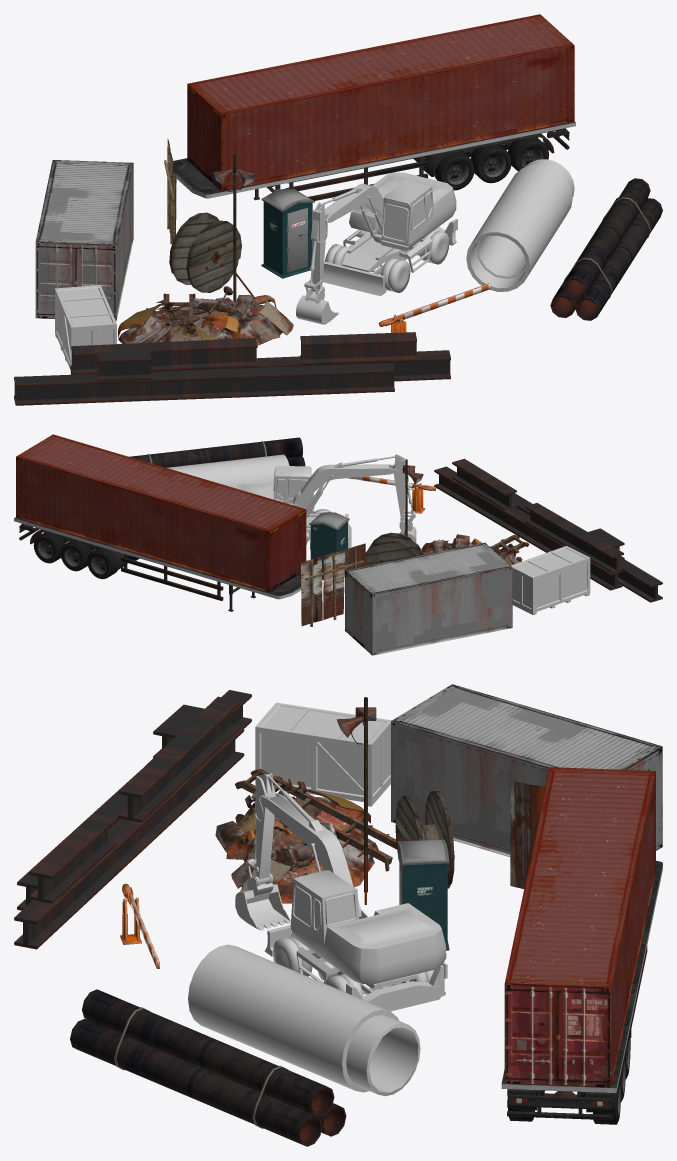
3 views of the same model, one above another, from view 1: azimuth 30°, elevation 25°; view 2: azimuth 150°, elevation 25°; view 3: azimuth 270°, elevation 25° (orthographic). The views are drawn at different scales.
Visible parts, largest first — view 1: SP_CSS_ShipingCont_1, SP_CCS_MetalBeams_1, SP_CSS_Excavator_1_SP_CSS_Excavator_1_0, SP_CSS_ShipingCont_2_SP_CSS_ShipingCont_2_0, SP_HWS_TrailerTruck_1_SP_HWS_TrailerTruck_1_0, SP_CCS_ConcretePipe_1_SP_CCS_ConcretePipe_1_0, SP_CCS_IronPipes_1_SP_CCS_IronPipes_1_0, SP_JNK_ScrapPile_1_SP_JNK_ScrapPile_1_0, SP_CCS_CableReel_1_SP_CCS_CableReel_1_0, DP_CCS_Toilet_1_DP_CCS_Toilet_1_0, DP_CSS_WoodBox_1_DP_CSS_WoodBox_1_0, SP_RST_Loudspeaker_1_SP_RST_Loudspeaker_1_0 (+2 smaller); view 2: SP_CSS_ShipingCont_1, SP_CSS_ShipingCont_2_SP_CSS_ShipingCont_2_0, SP_CCS_MetalBeams_1, SP_HWS_TrailerTruck_1_SP_HWS_TrailerTruck_1_0, SP_CSS_Excavator_1_SP_CSS_Excavator_1_0, DP_CSS_WoodBox_1_DP_CSS_WoodBox_1_0, DP_JNK_FenceRust_1, SP_CCS_IronPipes_1_SP_CCS_IronPipes_1_0, SP_CCS_ConcretePipe_1_SP_CCS_ConcretePipe_1_0, DP_CCS_Toilet_1_DP_CCS_Toilet_1_0, SP_CCS_CableReel_1_SP_CCS_CableReel_1_0, SP_JNK_ScrapPile_1_SP_JNK_ScrapPile_1_0 (+2 smaller); view 3: SP_CSS_ShipingCont_1, SP_CSS_ShipingCont_2_SP_CSS_ShipingCont_2_0, SP_CSS_Excavator_1_SP_CSS_Excavator_1_0, SP_CCS_ConcretePipe_1_SP_CCS_ConcretePipe_1_0, SP_CCS_MetalBeams_1, SP_CCS_IronPipes_1_SP_CCS_IronPipes_1_0, DP_CSS_WoodBox_1_DP_CSS_WoodBox_1_0, SP_JNK_ScrapPile_1_SP_JNK_ScrapPile_1_0, SP_HWS_TrailerTruck_1_SP_HWS_TrailerTruck_1_0, DP_CCS_Toilet_1_DP_CCS_Toilet_1_0, DP_JNK_FenceRust_1, SP_CCS_CableReel_1_SP_CCS_CableReel_1_0 (+2 smaller).
Part boxes in pixels (box(x1,y1,x2,y2)): SP_CSS_ShipingCont_1: box(187, 14, 574, 190); SP_CCS_MetalBeams_1: box(14, 332, 450, 405); SP_CSS_Excavator_1_SP_CSS_Excavator_1_0: box(296, 172, 457, 324); SP_CSS_ShipingCont_2_SP_CSS_ShipingCont_2_0: box(35, 160, 133, 321); SP_HWS_TrailerTruck_1_SP_HWS_TrailerTruck_1_0: box(173, 121, 575, 200); SP_CCS_ConcretePipe_1_SP_CCS_ConcretePipe_1_0: box(466, 159, 574, 291); SP_CCS_IronPipes_1_SP_CCS_IronPipes_1_0: box(550, 178, 662, 320); SP_JNK_ScrapPile_1_SP_JNK_ScrapPile_1_0: box(118, 286, 293, 345); SP_CCS_CableReel_1_SP_CCS_CableReel_1_0: box(169, 212, 241, 292); DP_CCS_Toilet_1_DP_CCS_Toilet_1_0: box(261, 188, 314, 278); DP_CSS_WoodBox_1_DP_CSS_WoodBox_1_0: box(55, 285, 116, 372); SP_RST_Loudspeaker_1_SP_RST_Loudspeaker_1_0: box(213, 153, 255, 301); SP_CSS_ShipingCont_1: box(16, 434, 306, 591); SP_CSS_ShipingCont_2_SP_CSS_ShipingCont_2_0: box(345, 542, 512, 655); SP_CCS_MetalBeams_1: box(434, 458, 662, 602); SP_HWS_TrailerTruck_1_SP_HWS_TrailerTruck_1_0: box(14, 517, 300, 611); SP_CSS_Excavator_1_SP_CSS_Excavator_1_0: box(232, 454, 416, 549); DP_CSS_WoodBox_1_DP_CSS_WoodBox_1_0: box(511, 546, 590, 615); DP_JNK_FenceRust_1: box(301, 543, 365, 626); SP_CCS_IronPipes_1_SP_CCS_IronPipes_1_0: box(129, 437, 305, 467); SP_CCS_ConcretePipe_1_SP_CCS_ConcretePipe_1_0: box(166, 454, 289, 486); DP_CCS_Toilet_1_DP_CCS_Toilet_1_0: box(309, 512, 349, 580); SP_CCS_CableReel_1_SP_CCS_CableReel_1_0: box(365, 532, 423, 565); SP_JNK_ScrapPile_1_SP_JNK_ScrapPile_1_0: box(421, 534, 529, 565); SP_CSS_ShipingCont_1: box(504, 767, 655, 1087); SP_CSS_ShipingCont_2_SP_CSS_ShipingCont_2_0: box(391, 684, 662, 856); SP_CSS_Excavator_1_SP_CSS_Excavator_1_0: box(235, 772, 447, 1011); SP_CCS_ConcretePipe_1_SP_CCS_ConcretePipe_1_0: box(188, 944, 420, 1096); SP_CCS_MetalBeams_1: box(14, 690, 251, 949); SP_CCS_IronPipes_1_SP_CCS_IronPipes_1_0: box(70, 989, 346, 1146); DP_CSS_WoodBox_1_DP_CSS_WoodBox_1_0: box(255, 702, 391, 806); SP_JNK_ScrapPile_1_SP_JNK_ScrapPile_1_0: box(215, 768, 397, 903); SP_HWS_TrailerTruck_1_SP_HWS_TrailerTruck_1_0: box(501, 860, 662, 1124); DP_CCS_Toilet_1_DP_CCS_Toilet_1_0: box(397, 839, 449, 950); DP_JNK_FenceRust_1: box(510, 780, 545, 888); SP_CCS_CableReel_1_SP_CCS_CableReel_1_0: box(395, 791, 454, 888).
Size of the model in its own units: 23.97 by 5.06 by 15.17.
